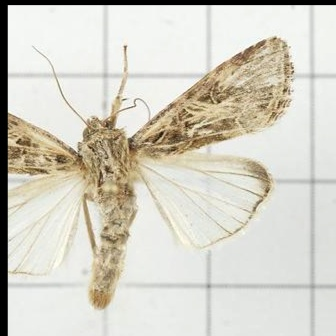Spodoptera litura: (8, 36, 293, 310)
